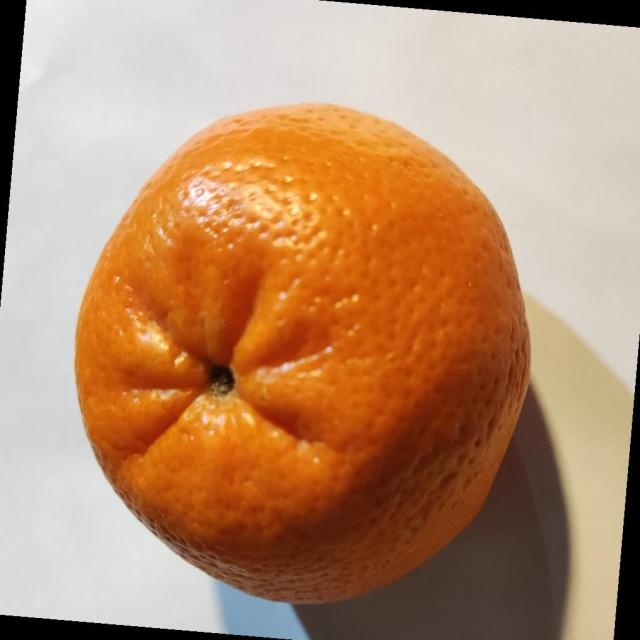agrume: (72, 100, 532, 605)
